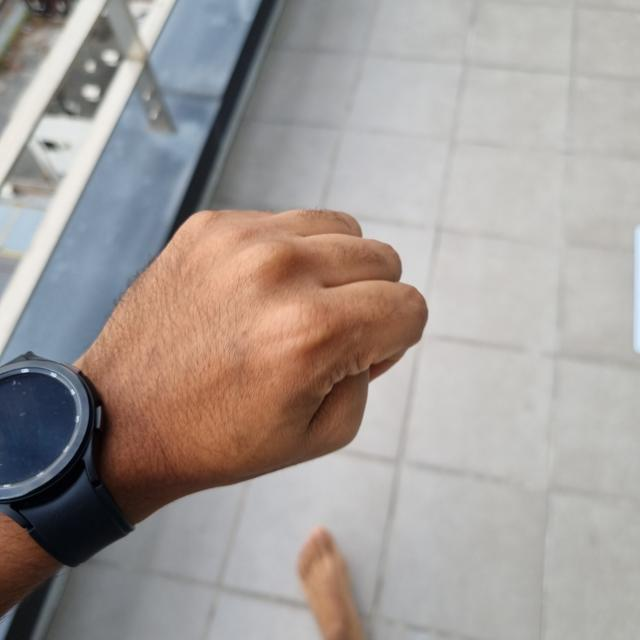Rock: (73, 203, 427, 501)
